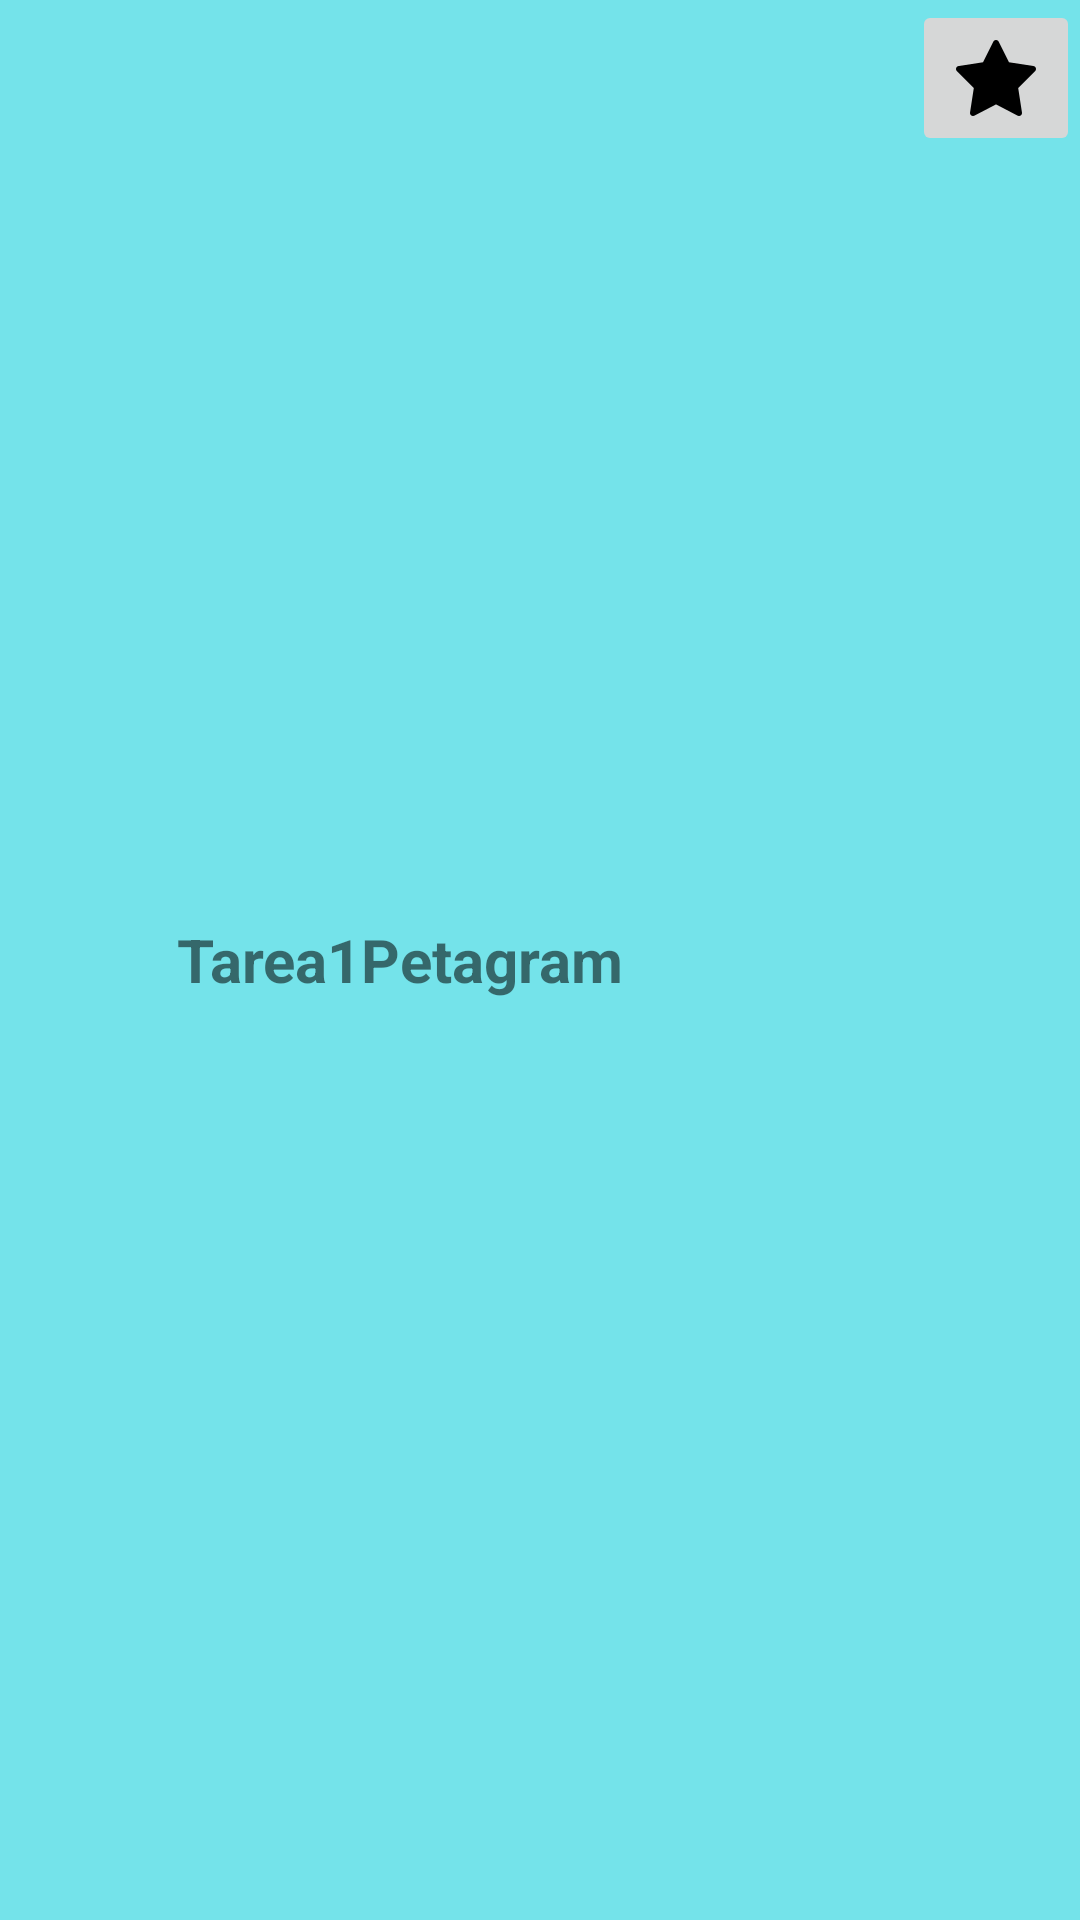

Where icons sit on this 1080px×1920px app screen, as [x1, y1, x2, y2]:
estrella top: [924, 18, 1068, 138]
